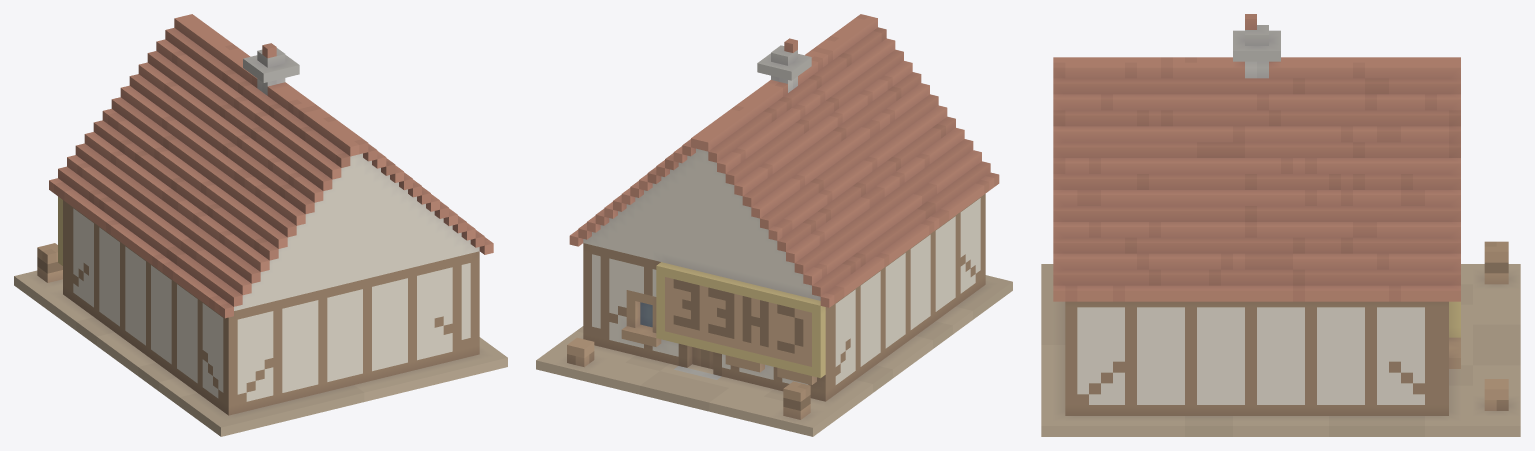
File: cheese_dairy.glb
3 views of the same model, side by side, from view 1: azimuth 30°, elevation 25°; view 2: azimuth 150°, elevation 25°; view 3: azimuth 270°, elevation 25° (orthographic). The views are drawn at different scales.
Parts seen in each view (by area): view 1: cheese_dairy; view 2: cheese_dairy; view 3: cheese_dairy.
Boxes of the visible parts, x1,y1,x2,y2 form: cheese_dairy: [14, 14, 507, 436]; cheese_dairy: [536, 14, 1012, 436]; cheese_dairy: [1041, 14, 1520, 436].
Bounding box in the file's own units: 4 × 3.88 × 5.
